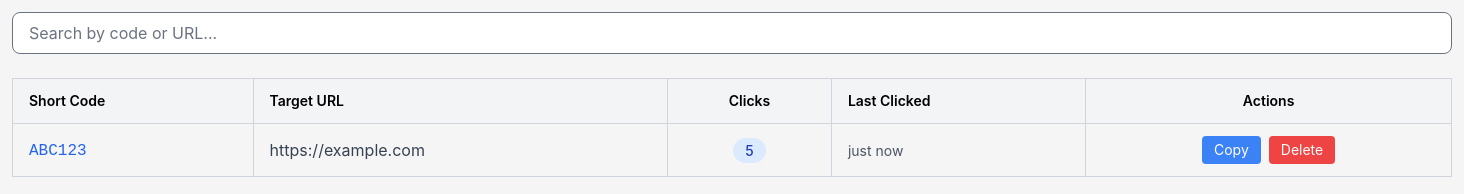
Scenario: LinkTable Component › should show no results for non-matching search
In the field with placeholder "Search by code or URL...": (732, 33) left=12, top=12, right=1452, bottom=54, type "NONEXISTENT"
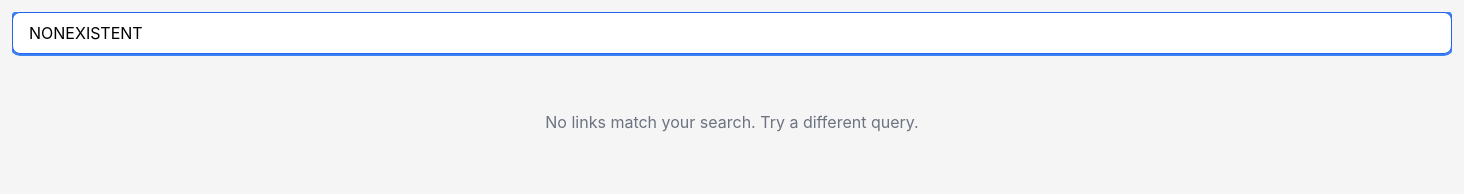
Now the text "No links match your search. Try a different query." is shown, box left=545, top=112, right=919, bottom=132
